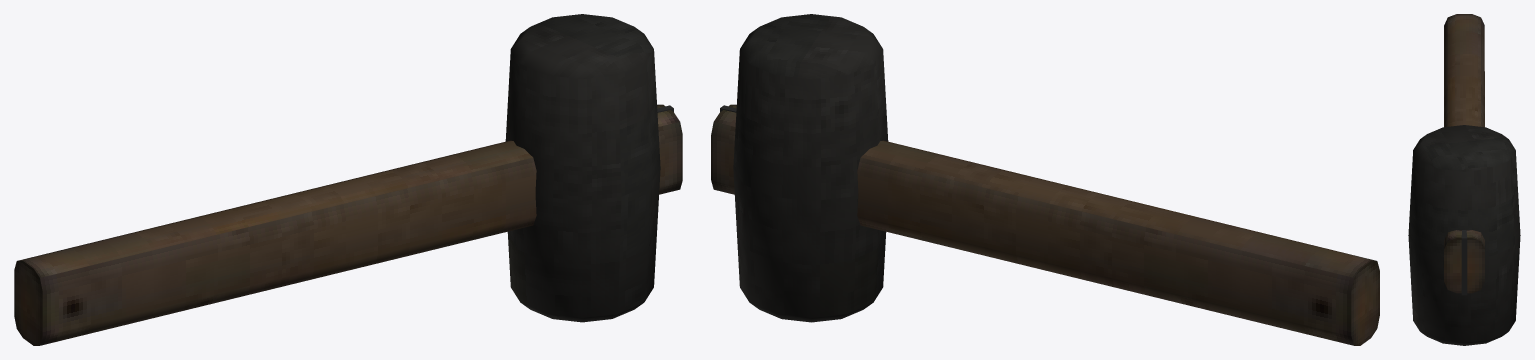
File: shop-item-1047.glb
3 views of the same model, side by side, from view 1: azimuth 30°, elevation 25°; view 2: azimuth 150°, elevation 25°; view 3: azimuth 270°, elevation 25° (orthographic). The views are drawn at different scales.
Parts seen in each view (by area): view 1: rubber_hammer_mx_1; view 2: rubber_hammer_mx_1; view 3: rubber_hammer_mx_1.
Boxes of the visible parts, x1=… form: rubber_hammer_mx_1: x1=14, y1=14, x2=682, y2=345; rubber_hammer_mx_1: x1=711, y1=14, x2=1379, y2=345; rubber_hammer_mx_1: x1=1408, y1=14, x2=1520, y2=345.
Size of the model in its own units: 0.5227 by 0.2 by 0.11.
Materials: 2 (2 with a texture image).
